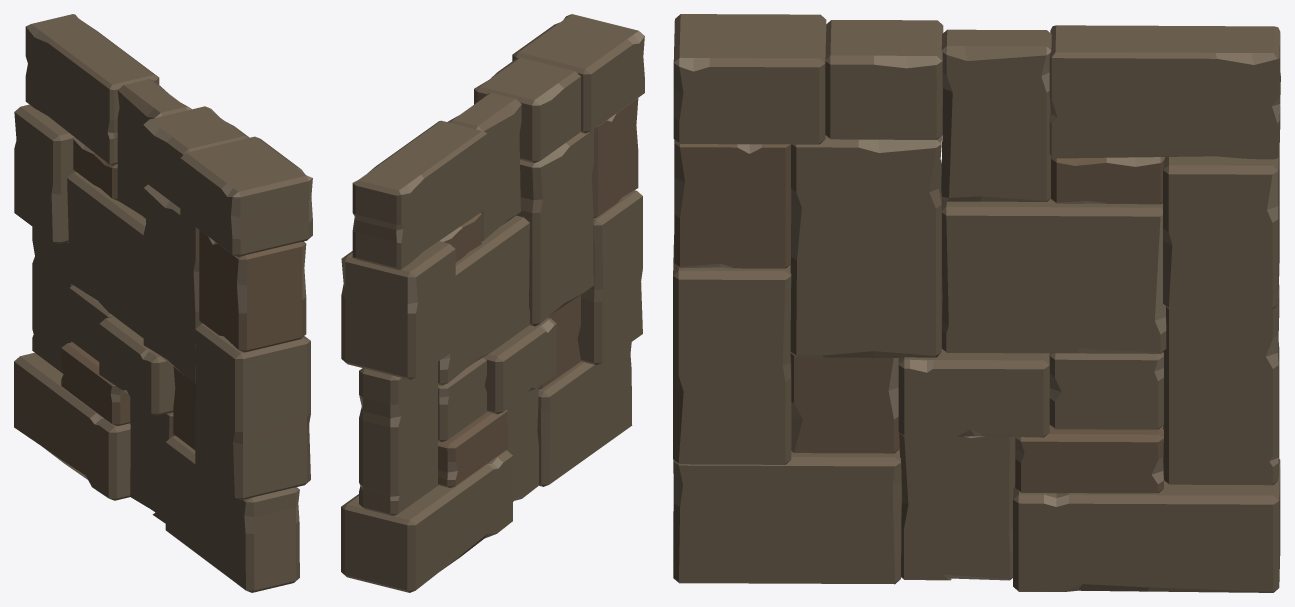
Rendered from final_wall_west_1_lev3.glb.
The picture shows the model from 3 angles, left to right: view 1: azimuth 30°, elevation 25°; view 2: azimuth 150°, elevation 25°; view 3: azimuth 270°, elevation 25°; orthographic projection. The views are drawn at different scales.
Parts seen in each view (by area): view 1: final_wall_west_1_lev3; view 2: final_wall_west_1_lev3; view 3: final_wall_west_1_lev3.
Part boxes in pixels (box(x1,y1,x2,y2)): final_wall_west_1_lev3: box(14, 14, 312, 592); final_wall_west_1_lev3: box(341, 14, 644, 592); final_wall_west_1_lev3: box(673, 14, 1280, 592).
Size of the model in its own units: 1.28 by 6.02 by 6.2.
